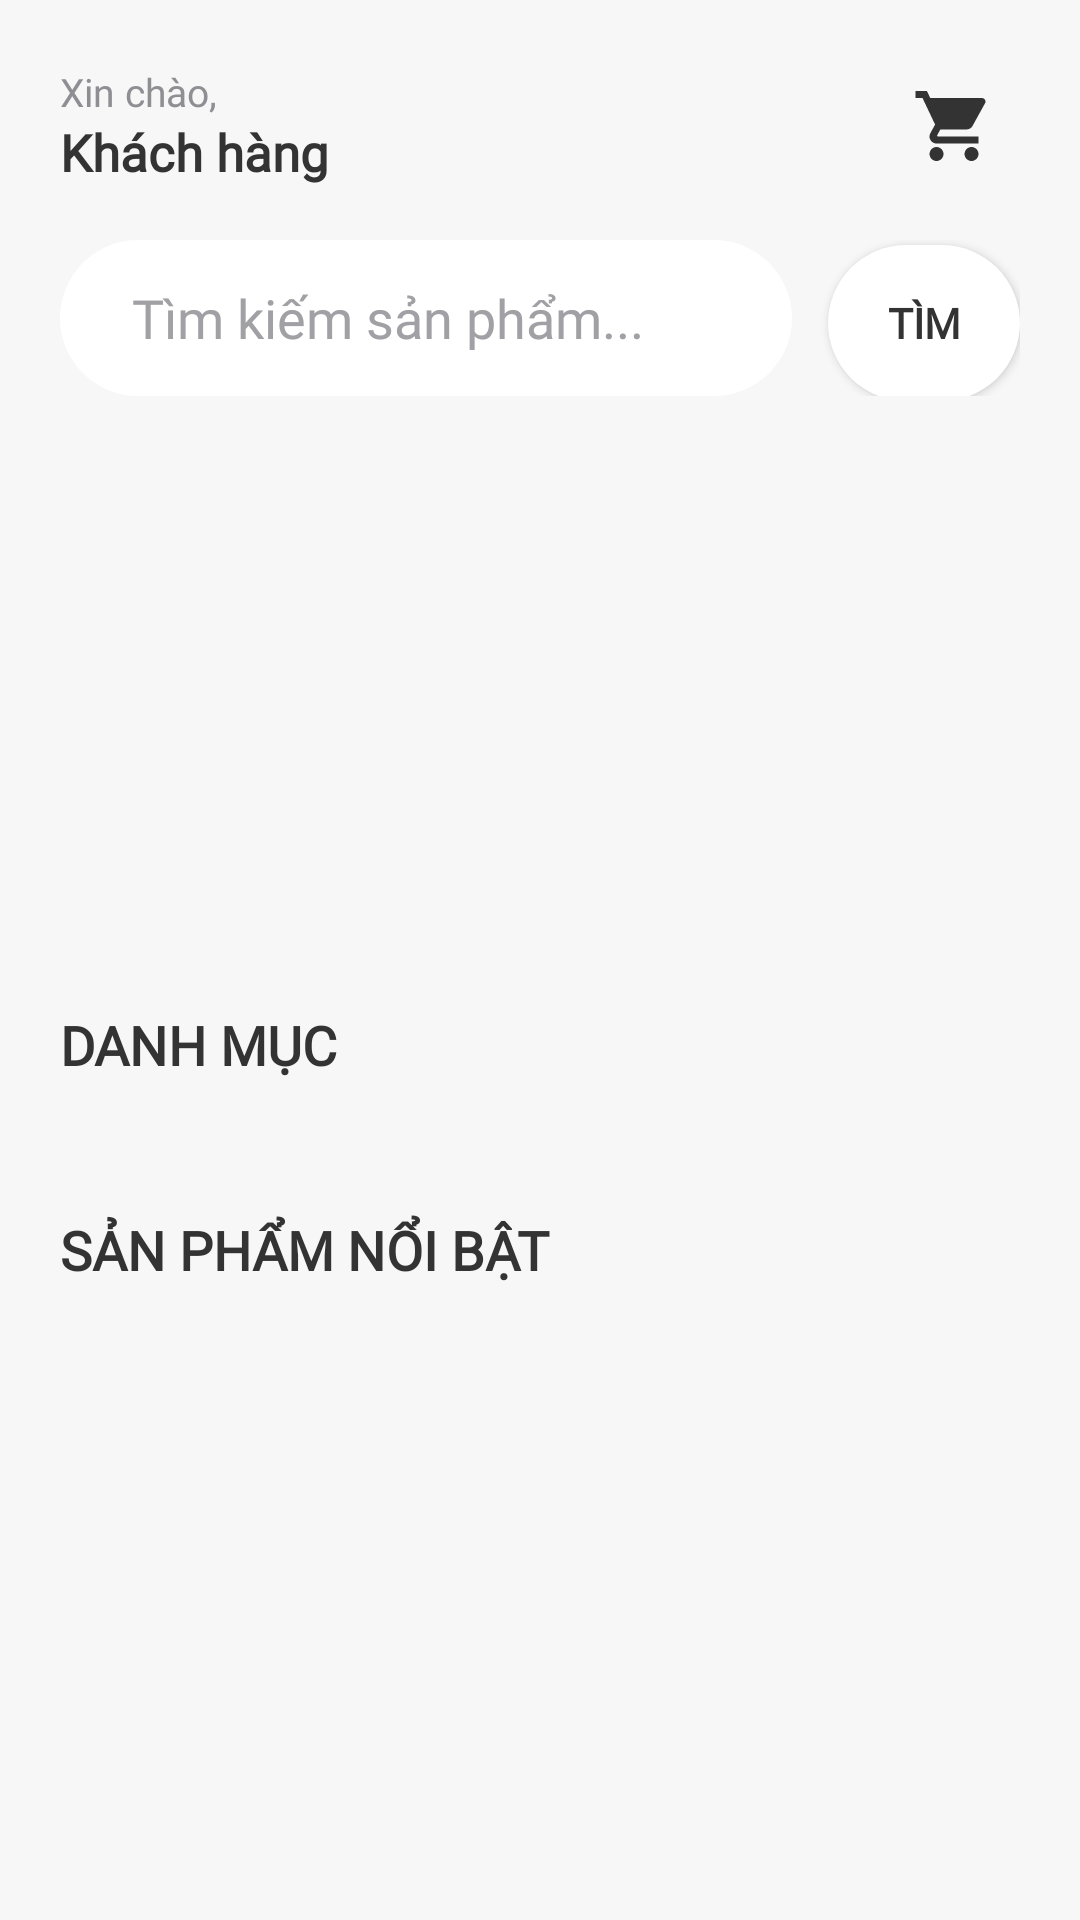

Icons on this 1080w x 1920h Android screen, each with the point to tap as (x,y):
Giỏ hàng: (950,126)
